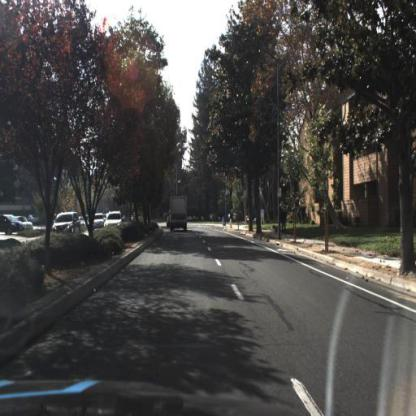car: (49, 209, 84, 239), (100, 209, 127, 233), (105, 211, 124, 229)
pedestrian: (267, 200, 295, 237), (279, 202, 289, 237)
truck: (167, 193, 192, 237)
